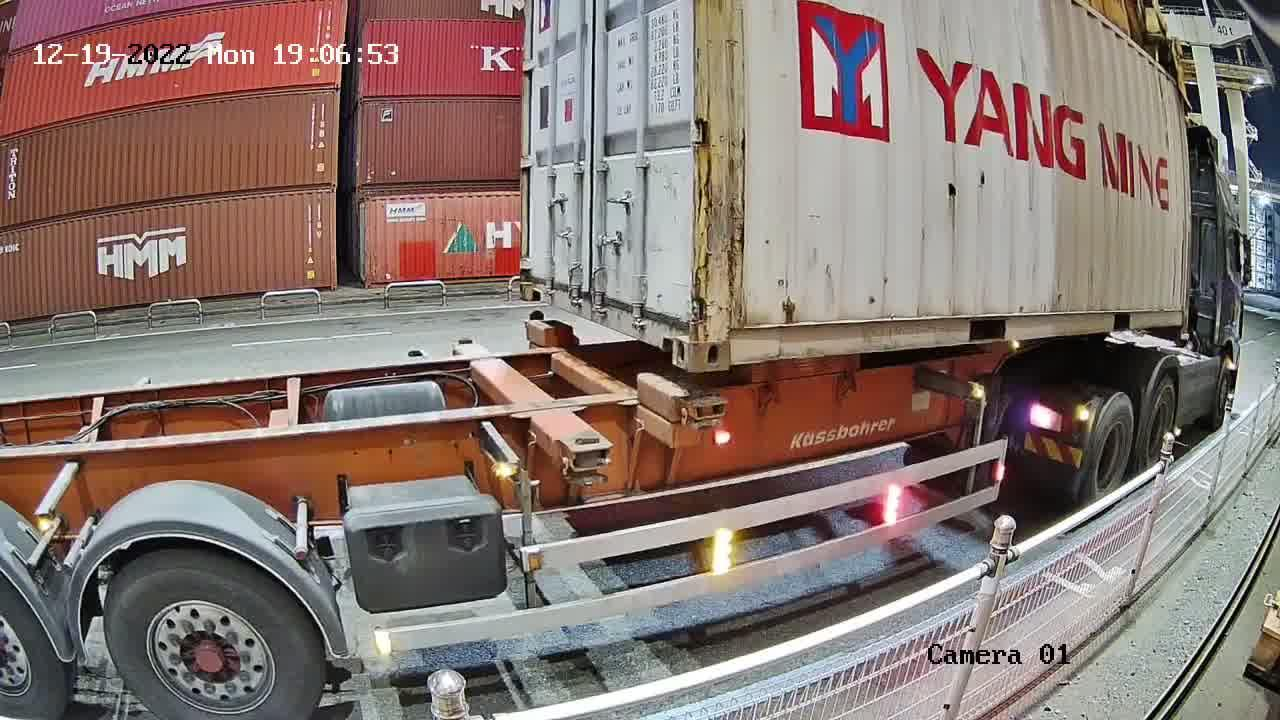Chassis: (527, 318, 702, 421)
Cone: (679, 394, 727, 425), (524, 310, 548, 323)
Hole_L: (689, 296, 760, 373), (518, 262, 549, 304)
Hole_R: (638, 288, 692, 373)
Tire: (1083, 397, 1134, 502), (1140, 378, 1178, 471)
